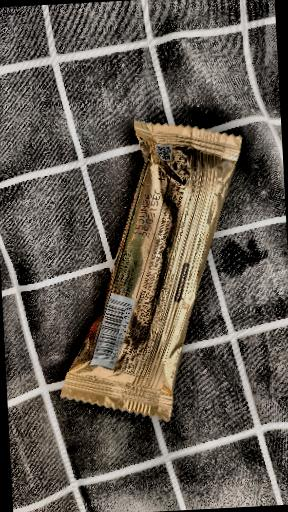top: (124, 96, 249, 459)
